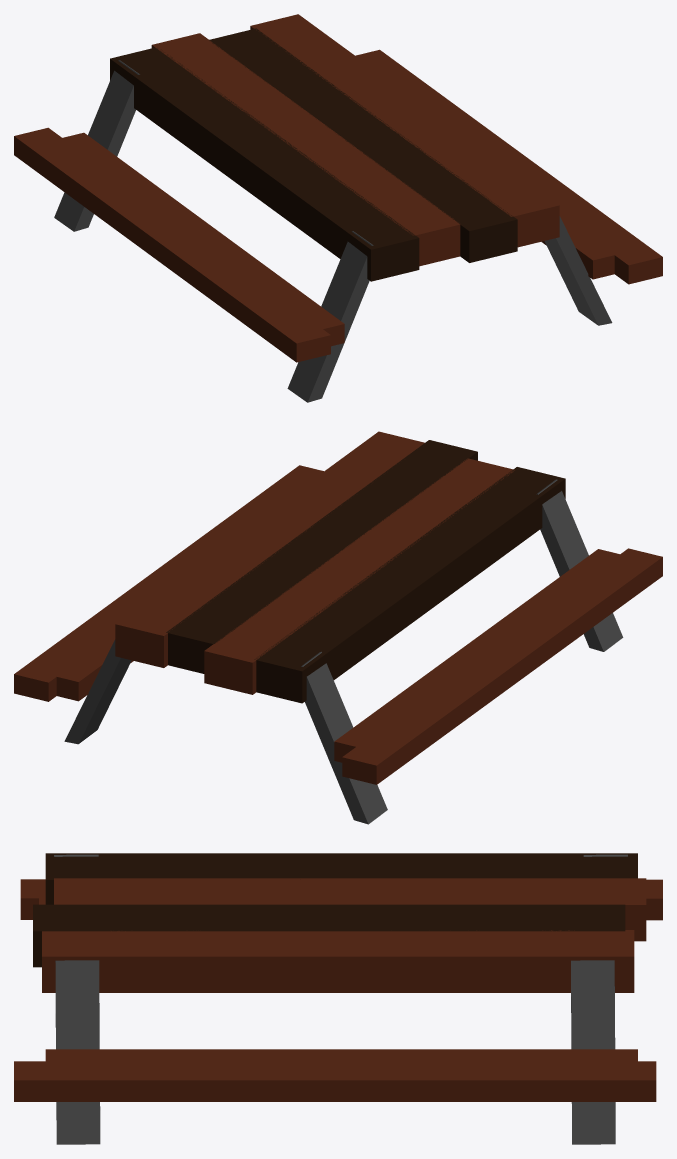
File: stol4.fbx
3 views of the same model, one above another, from view 1: azimuth 30°, elevation 25°; view 2: azimuth 150°, elevation 25°; view 3: azimuth 270°, elevation 25° (orthographic). The views are drawn at different scales.
Visible parts, largest first — view 1: stol 4 004, stol 4 001, stol 4 002, stol 4 003, stol 4 010, stol 4 009, stol 4 012, stol 4 008, stol 4 006, stol 4 005, stol 4 007; view 2: stol 4 004, stol 4 003, stol 4 002, stol 4 001, stol 4 010, stol 4 009, stol 4 012, stol 4 006, stol 4 008, stol 4 007, stol 4 011; view 3: stol 4 002, stol 4 012, stol 4 001, stol 4 003, stol 4 004, stol 4 007, stol 4 005, stol 4 011, stol 4 010.
Part boxes in pixels (x1,y1,x2,y2): stol 4 004: [110, 47, 419, 281]; stol 4 001: [209, 28, 517, 262]; stol 4 002: [250, 14, 559, 247]; stol 4 003: [151, 33, 460, 266]; stol 4 010: [14, 127, 330, 362]; stol 4 009: [50, 132, 344, 346]; stol 4 012: [355, 49, 662, 284]; stol 4 008: [287, 231, 373, 402]; stol 4 006: [54, 60, 139, 231]; stol 4 005: [544, 216, 612, 325]; stol 4 007: [363, 61, 625, 279]; stol 4 004: [254, 467, 565, 703]; stol 4 003: [204, 458, 514, 694]; stol 4 002: [115, 431, 424, 667]; stol 4 001: [166, 440, 477, 673]; stol 4 010: [342, 548, 662, 784]; stol 4 009: [334, 549, 632, 762]; stol 4 012: [14, 465, 323, 701]; stol 4 006: [301, 651, 387, 824]; stol 4 008: [536, 479, 623, 651]; stol 4 007: [44, 481, 309, 701]; stol 4 011: [64, 639, 131, 744]; stol 4 002: [42, 930, 634, 992]; stol 4 012: [14, 1061, 656, 1101]; stol 4 001: [33, 904, 625, 967]; stol 4 003: [54, 878, 646, 941]; stol 4 004: [45, 853, 637, 904]; stol 4 007: [45, 1049, 637, 1068]; stol 4 005: [55, 960, 100, 1144]; stol 4 011: [571, 960, 615, 1144]; stol 4 010: [20, 879, 662, 920].
Bounding box in the file's own units: 41.25 × 15.35 × 56.25.
